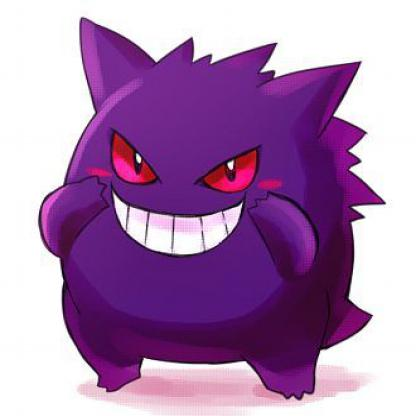Gengar: (16, 1, 402, 416)
